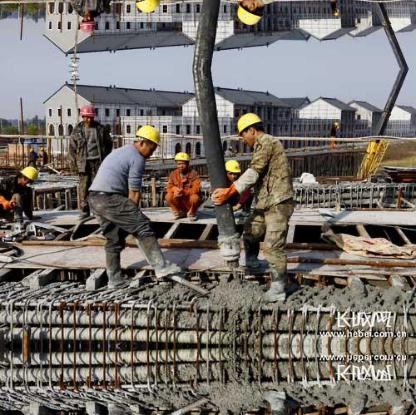Safety Helmet: (232, 109, 270, 149), (127, 124, 167, 159), (221, 153, 246, 182), (17, 162, 44, 186), (171, 149, 195, 174), (75, 106, 100, 126)
